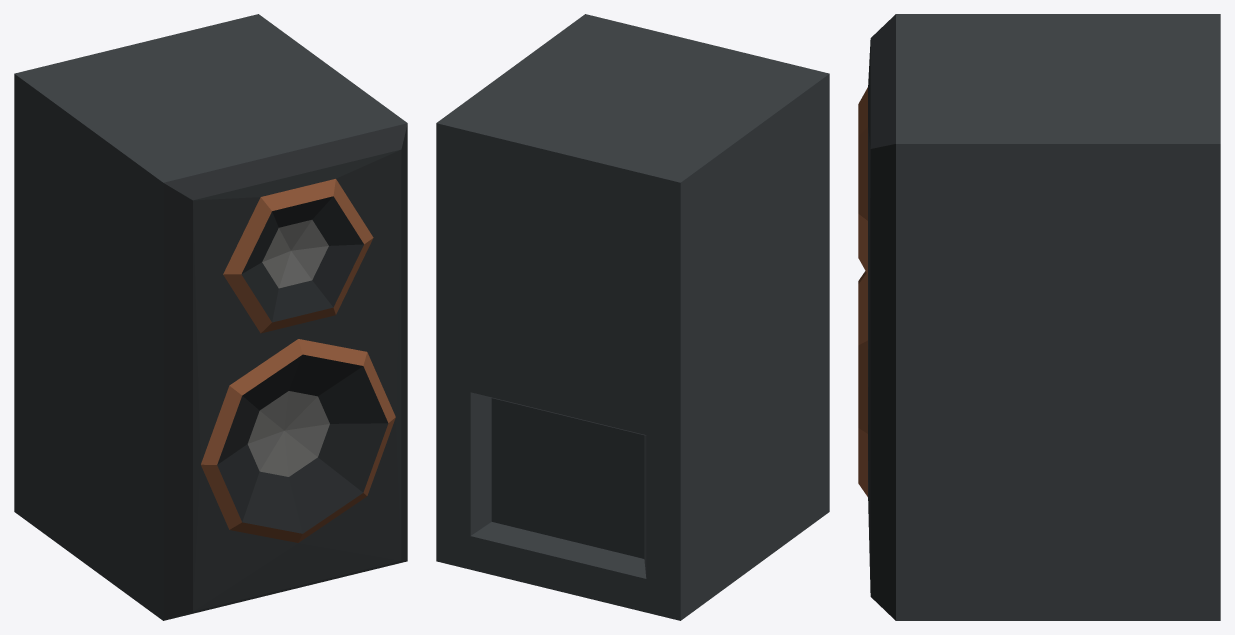
Rendered from SM_Prop_Stereo_Speaker_Large_01.glb.
3 renders of one model, left to right at view 1: azimuth 30°, elevation 25°; view 2: azimuth 150°, elevation 25°; view 3: azimuth 270°, elevation 25°, orthographic. The views are drawn at different scales.
Visible parts, largest first — view 1: SM_Prop_Stereo_Speaker_Large_01; view 2: SM_Prop_Stereo_Speaker_Large_01; view 3: SM_Prop_Stereo_Speaker_Large_01.
Boxes of the visible parts, x1=… form: SM_Prop_Stereo_Speaker_Large_01: x1=14, y1=14, x2=407, y2=620; SM_Prop_Stereo_Speaker_Large_01: x1=436, y1=14, x2=829, y2=620; SM_Prop_Stereo_Speaker_Large_01: x1=858, y1=14, x2=1220, y2=620.
Bounding box in the file's own units: 0.4188 × 0.7175 × 0.4938.
Materials: 1 (1 with a texture image).
